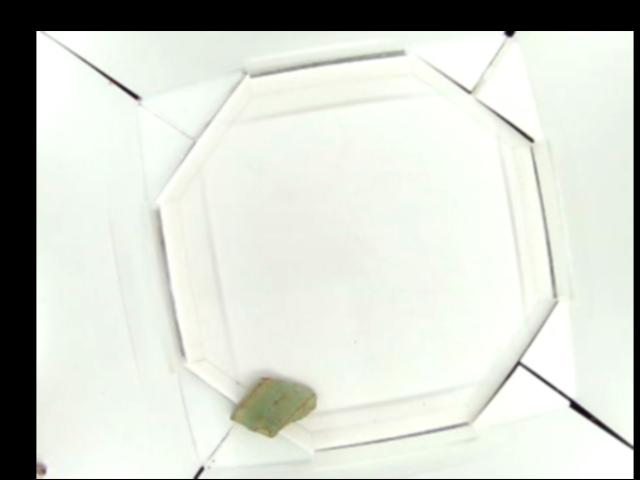China: (224, 372, 314, 438)
